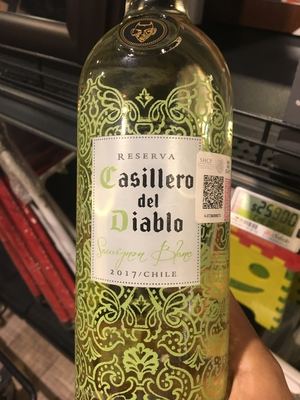casillero del diablo sauvignon blanc: (67, 18, 247, 399)
